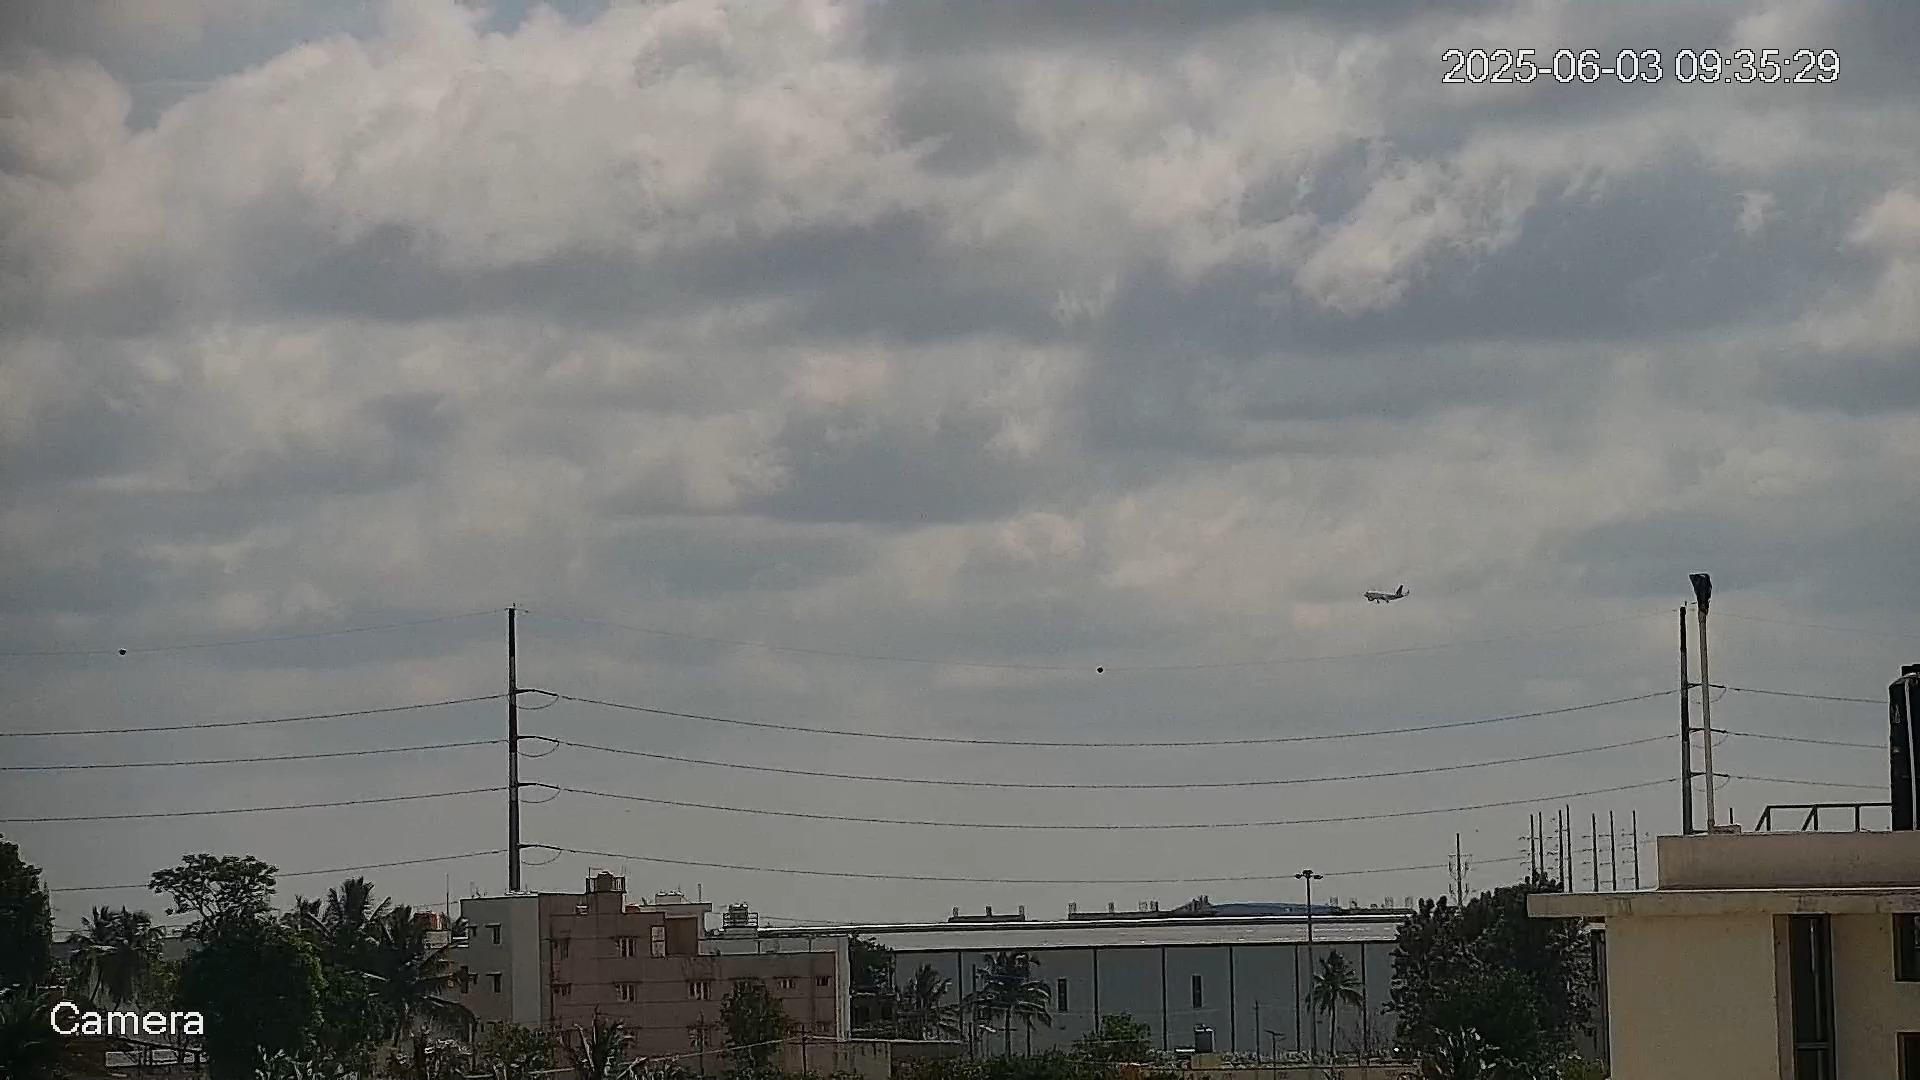Aircraft: (1360, 584, 1407, 605)
